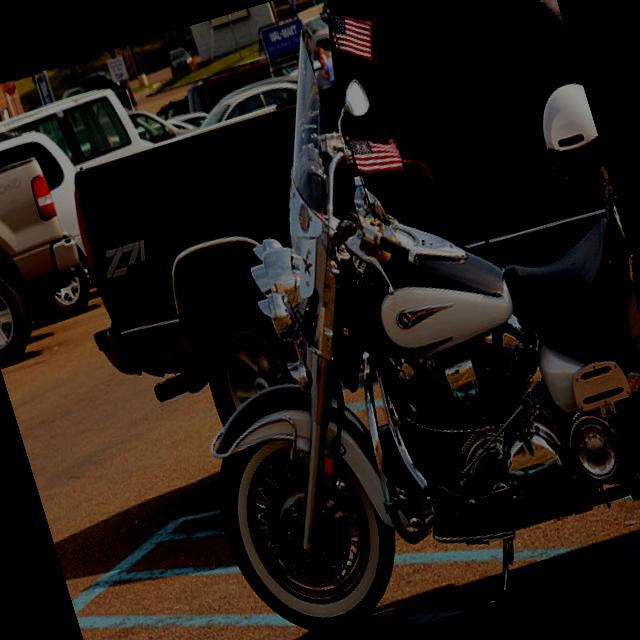Vehicle: (79, 0, 640, 640), (14, 0, 640, 452), (0, 120, 114, 338), (0, 150, 105, 372), (0, 69, 156, 212), (192, 68, 307, 135), (180, 54, 278, 120), (127, 92, 208, 153), (164, 106, 212, 140)
